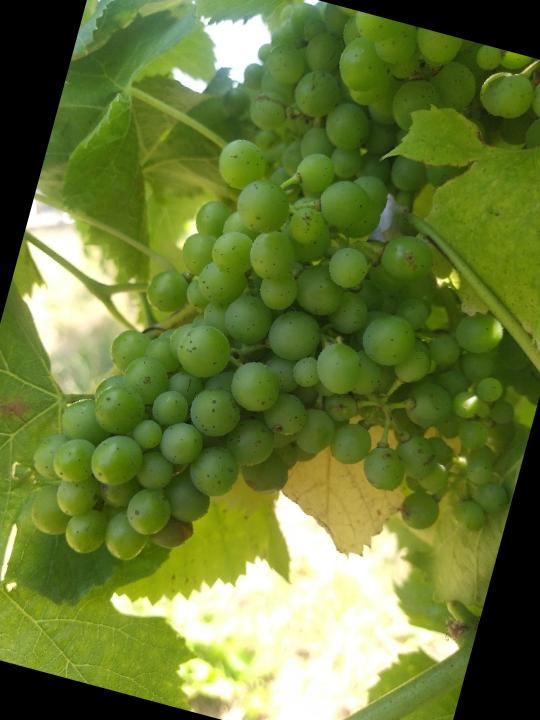grape: (11, 98, 540, 655)
